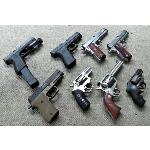Pistol: (26, 66, 64, 122), (96, 58, 126, 120), (3, 35, 42, 75), (50, 31, 84, 67), (80, 27, 110, 59), (105, 29, 130, 59)
